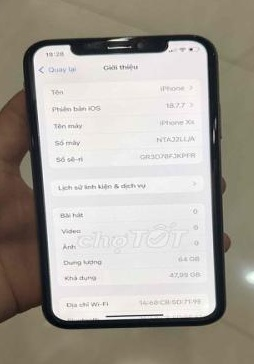scratch: (193, 28, 224, 60)
